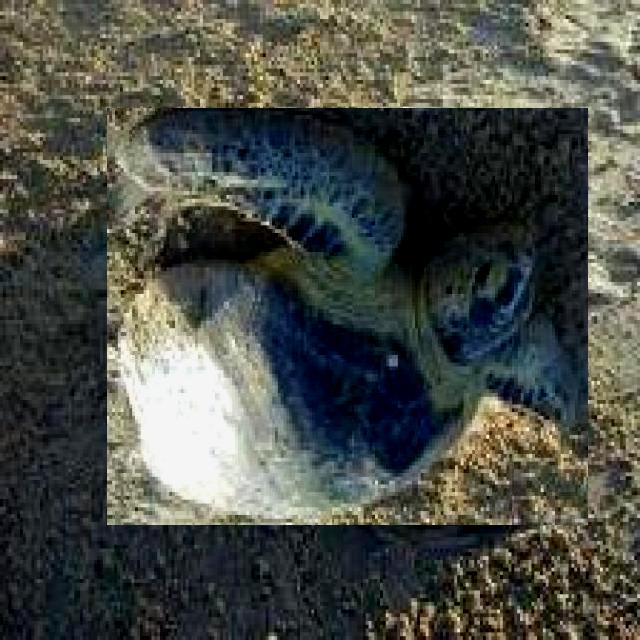Sea turtle: (107, 108, 588, 525)
